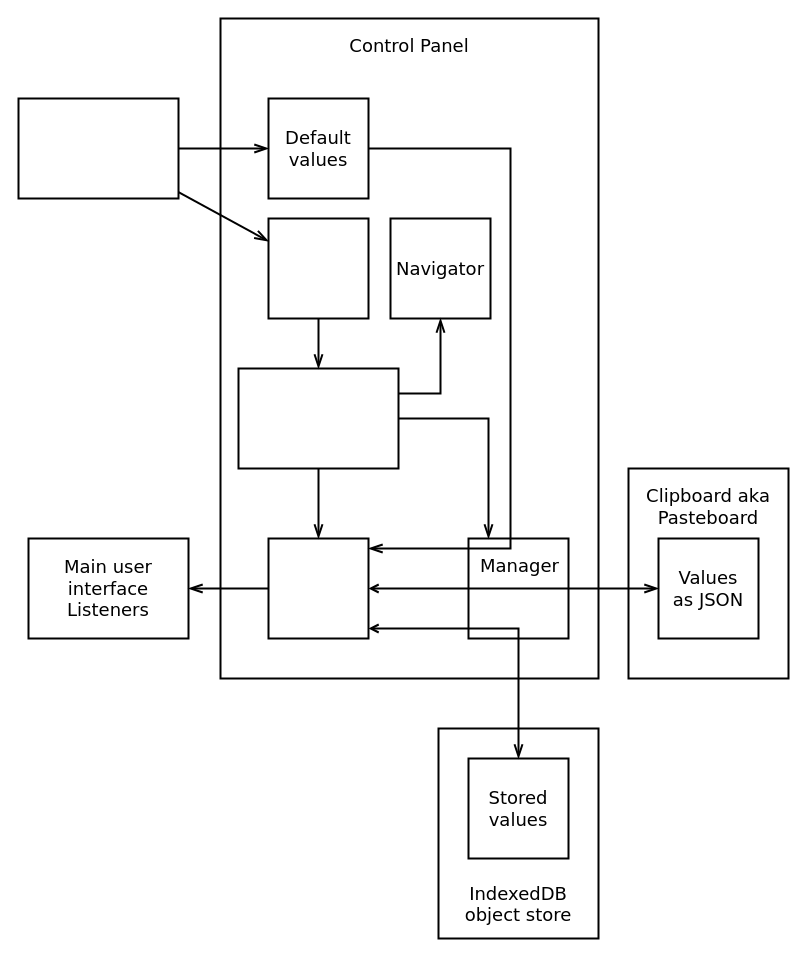
Some shapes in this 806 by 956 pixel diagram are drawn without their labels. The centre of each missing label's shape, as x and y in pixels:
"Control Panel Specification" goes at point 98,148.
"Current values" goes at point 318,588.
"Structure definition" goes at point 318,268.
"User Interface HTML, CSS, JS" goes at point 318,418.
